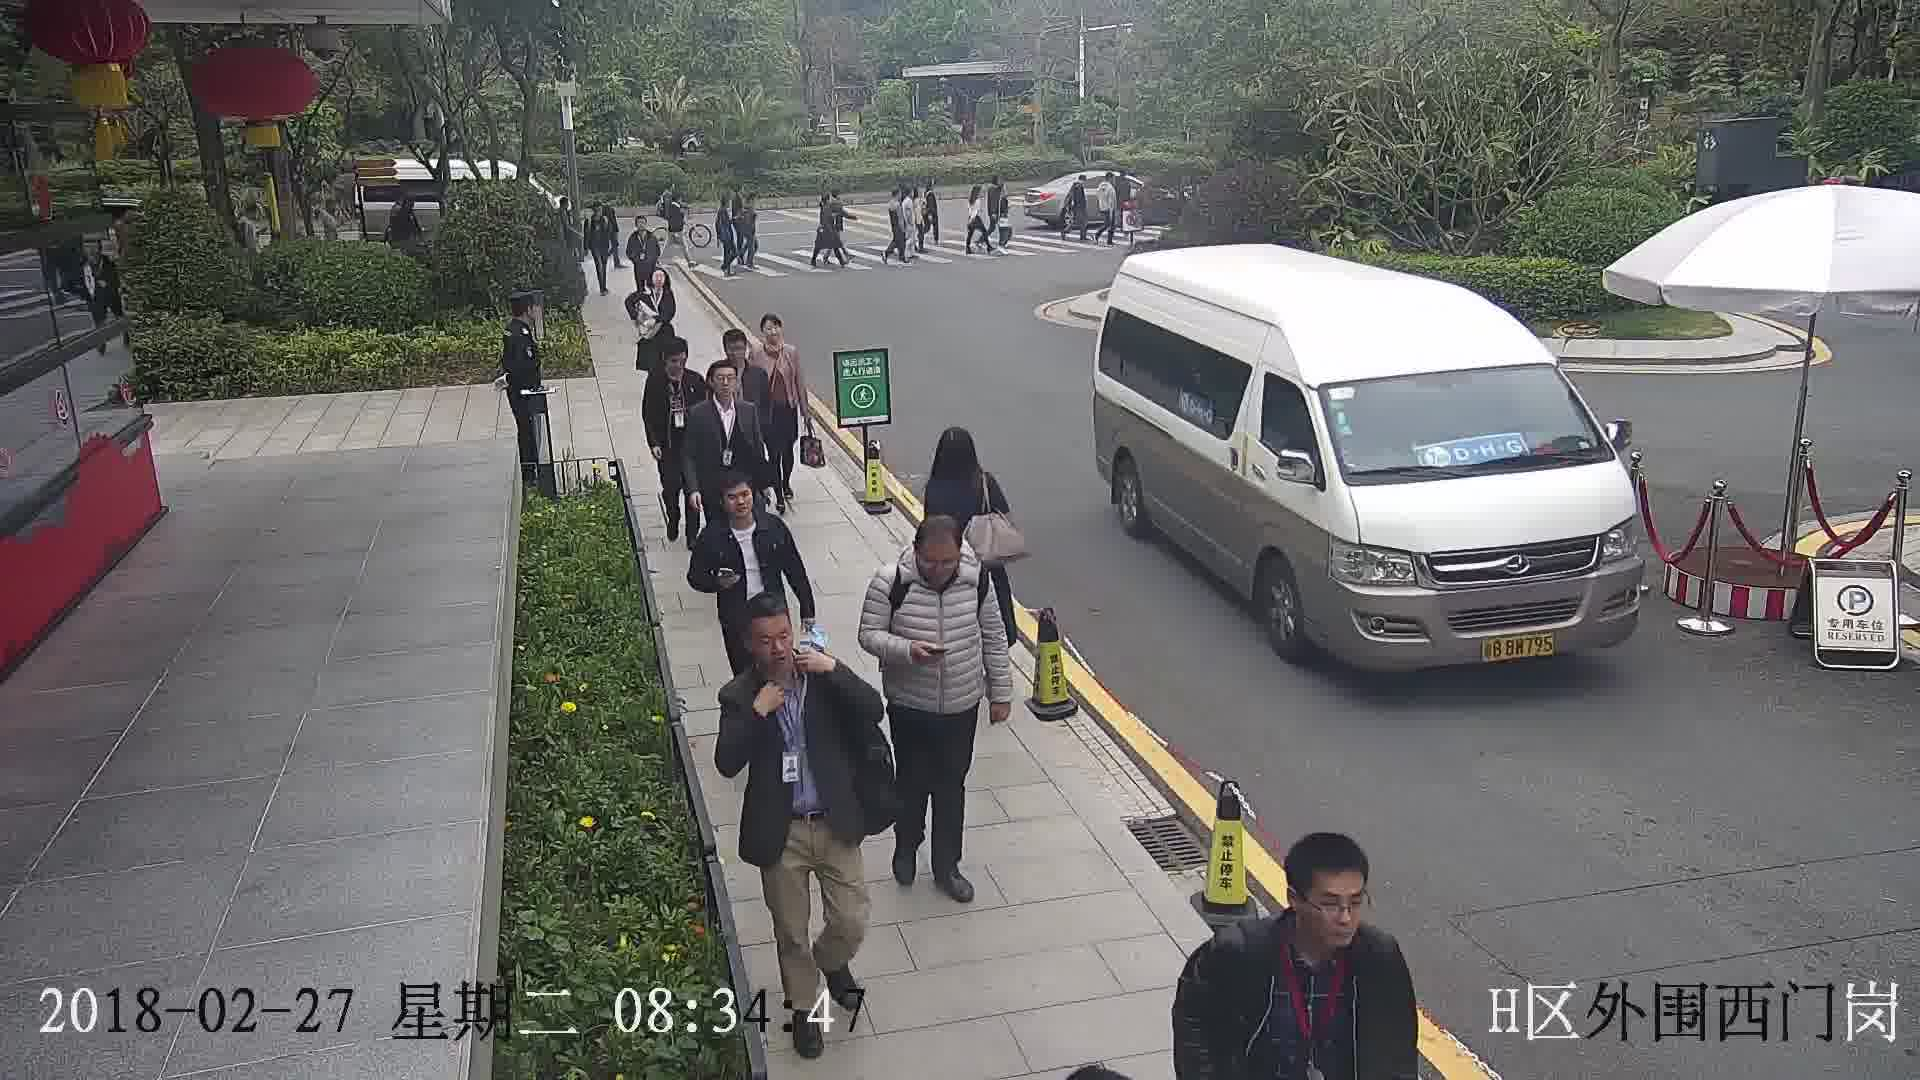face: (1295, 870, 1370, 945), (739, 609, 796, 675), (716, 476, 756, 526)
person: (1189, 836, 1421, 1007), (719, 589, 830, 714), (873, 509, 1003, 613), (697, 462, 787, 551), (921, 424, 1007, 508), (685, 357, 749, 423), (644, 335, 701, 389), (712, 328, 765, 385), (751, 310, 801, 370), (503, 290, 544, 345), (632, 263, 677, 303), (630, 212, 658, 237), (586, 201, 610, 226), (965, 179, 985, 206), (982, 171, 1002, 198), (918, 174, 938, 199), (716, 193, 733, 220), (661, 187, 682, 208), (888, 186, 904, 210), (1102, 171, 1122, 191), (739, 192, 757, 214), (819, 192, 838, 212), (1071, 171, 1085, 195), (908, 187, 926, 207), (901, 185, 914, 207)
